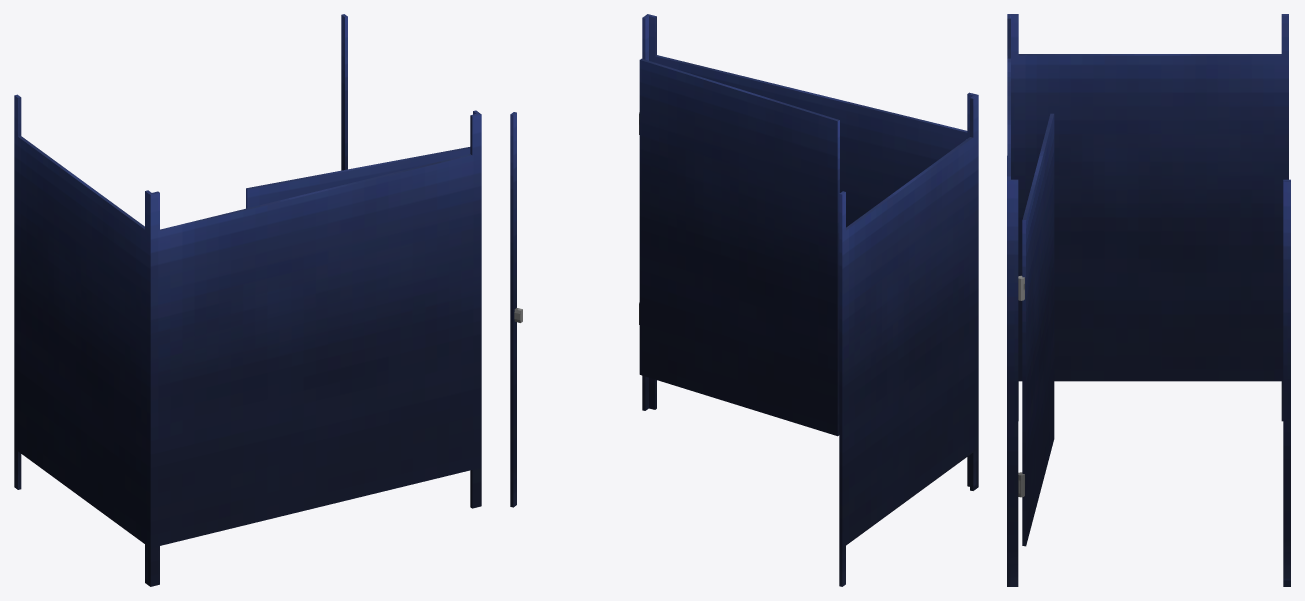
Rendered from stall_open_L.obj.
The picture shows the model from 3 angles, left to right: view 1: azimuth 30°, elevation 25°; view 2: azimuth 150°, elevation 25°; view 3: azimuth 270°, elevation 25°; orthographic projection. The views are drawn at different scales.
Visible parts, largest first — view 1: stall_open_L; view 2: stall_open_L; view 3: stall_open_L.
Boxes of the visible parts, x1=… form: stall_open_L: x1=14, y1=14, x2=481, y2=586; stall_open_L: x1=510, y1=14, x2=978, y2=586; stall_open_L: x1=1007, y1=14, x2=1290, y2=586.
Size of the model in its own units: 2.13 by 2.4 by 1.52.
